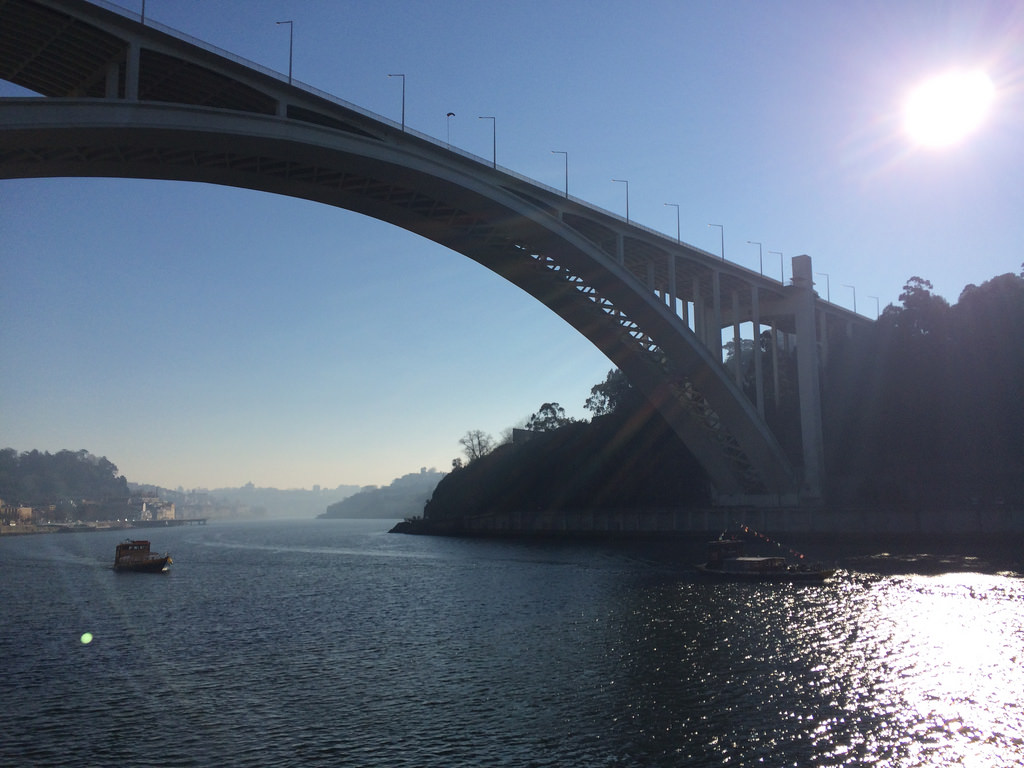arrabida: (0, 0, 879, 511)
